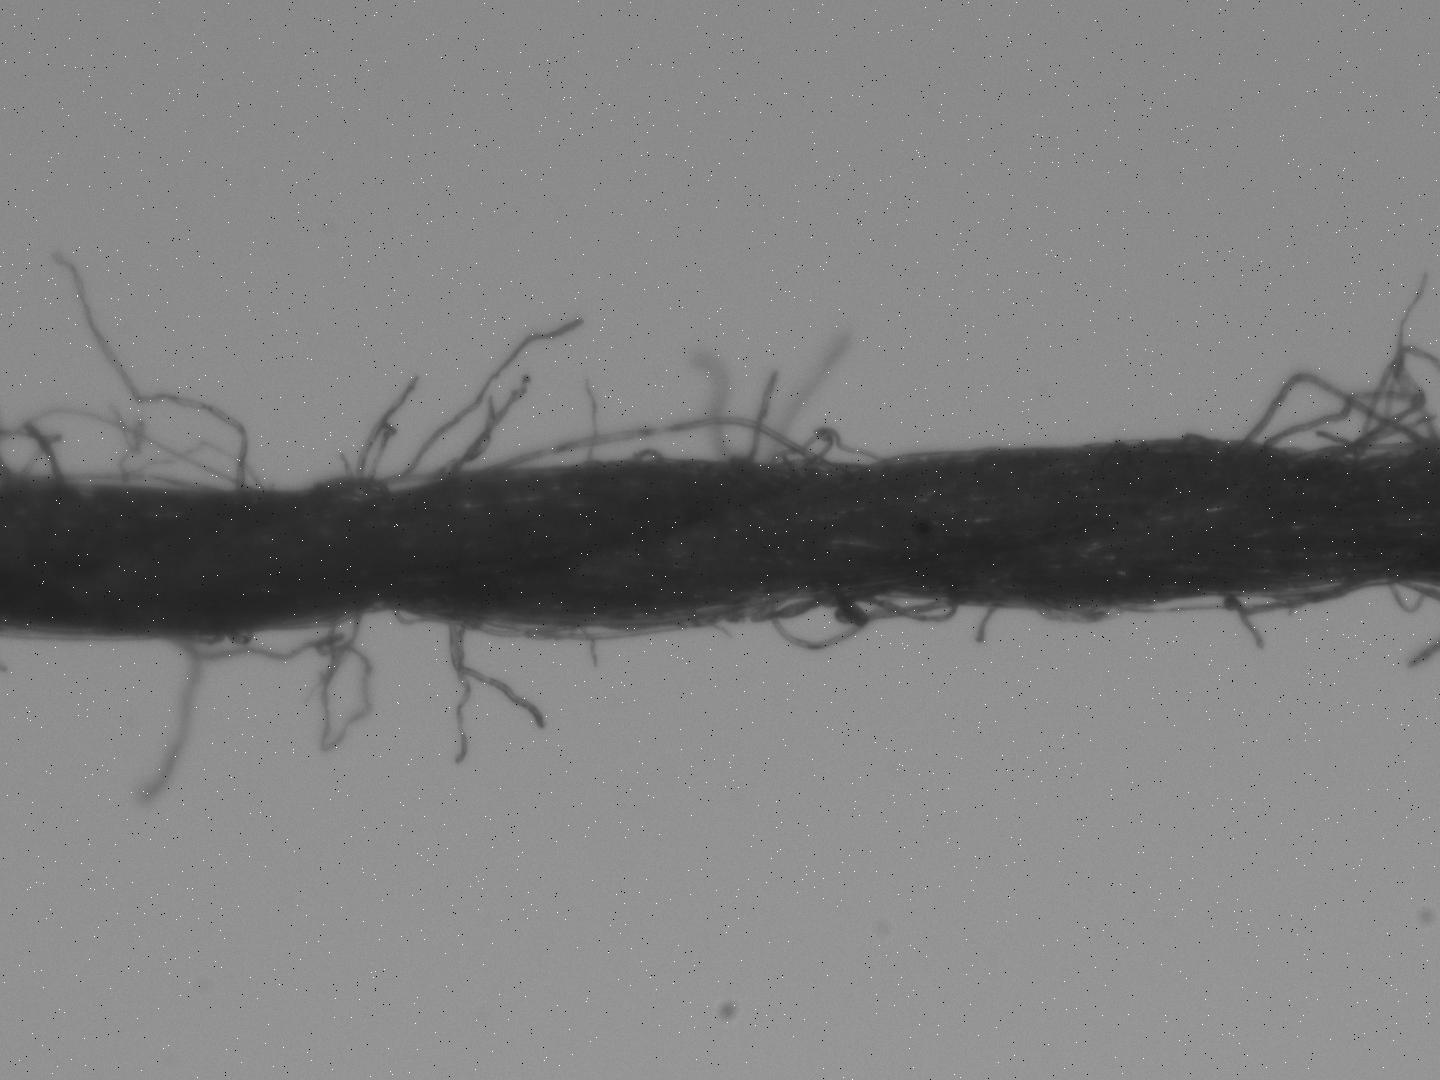loop_fiber: (478, 416, 820, 472), (1237, 371, 1423, 453), (764, 591, 945, 652), (463, 609, 718, 644), (1108, 582, 1346, 613), (812, 420, 884, 466), (23, 473, 210, 488), (302, 469, 387, 495), (1386, 573, 1431, 611), (382, 602, 439, 627)
